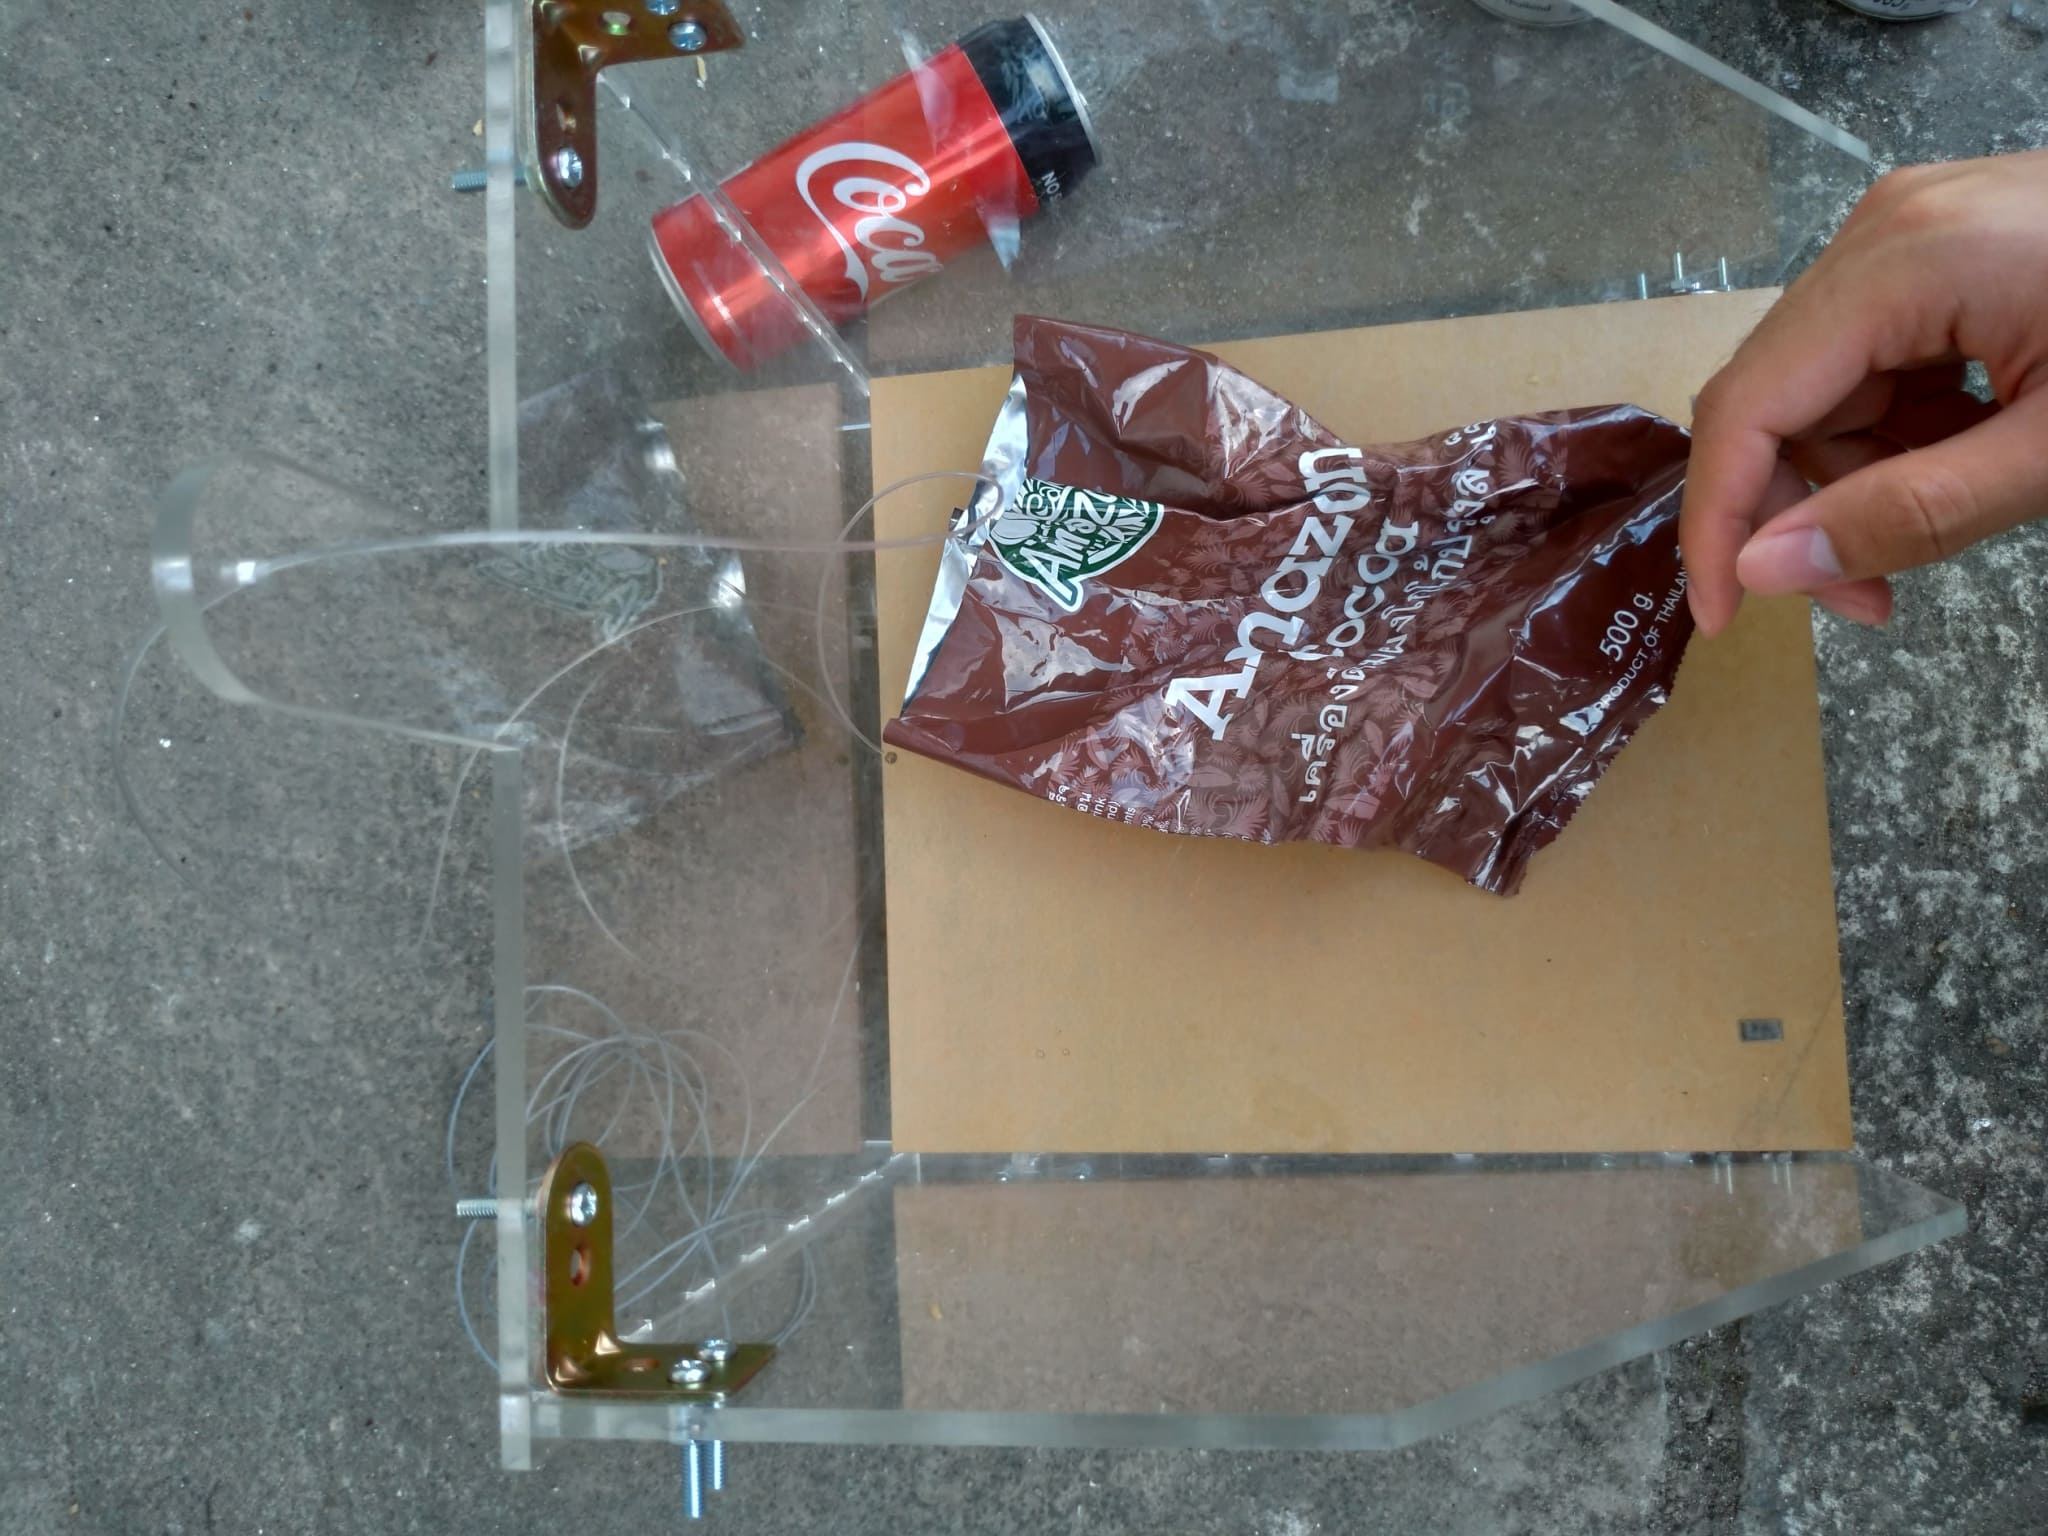AlCan: (648, 15, 1109, 361)
Others: (879, 303, 1705, 889)
